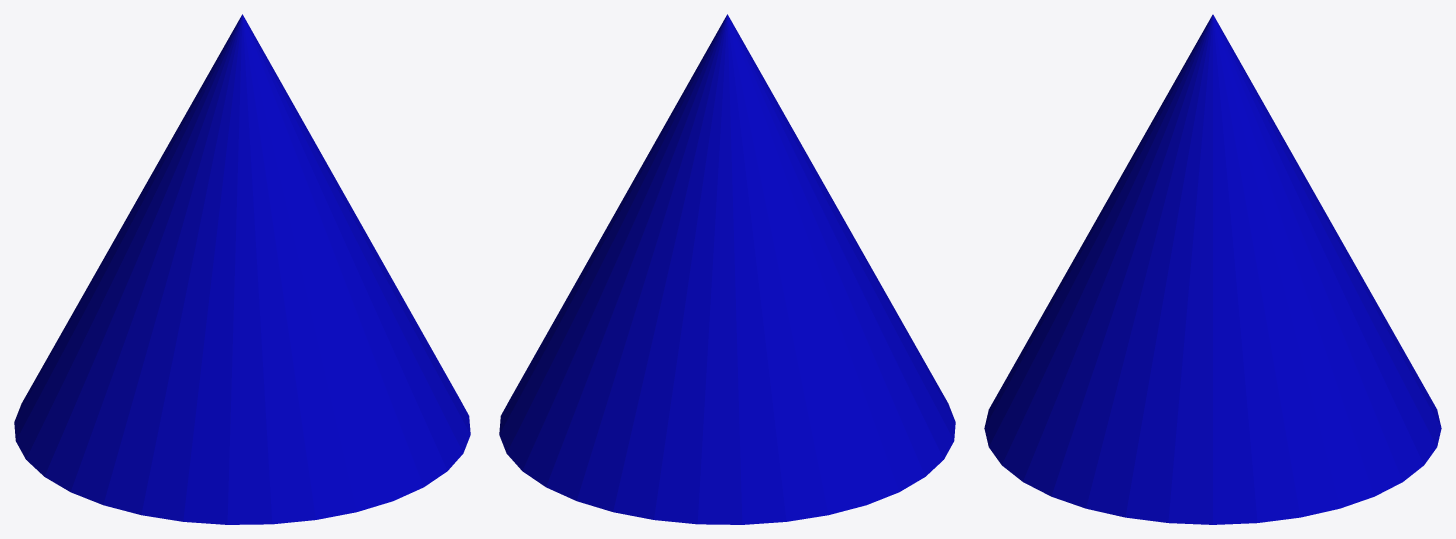
3 views of the same model, side by side, from view 1: azimuth 30°, elevation 25°; view 2: azimuth 150°, elevation 25°; view 3: azimuth 270°, elevation 25° (orthographic).
Parts seen in each view (by area): view 1: cone_Cone, cone_base_Cone.001; view 2: cone_Cone, cone_base_Cone.001; view 3: cone_Cone, cone_base_Cone.001.
Boxes of the visible parts, x1,y1,x2,y2 form: cone_Cone: [14, 14, 470, 524]; cone_base_Cone.001: [14, 309, 470, 524]; cone_Cone: [499, 14, 955, 524]; cone_base_Cone.001: [500, 308, 955, 524]; cone_Cone: [984, 14, 1441, 524]; cone_base_Cone.001: [985, 311, 1441, 524].
Size of the model in its own units: 2 by 2 by 2.
